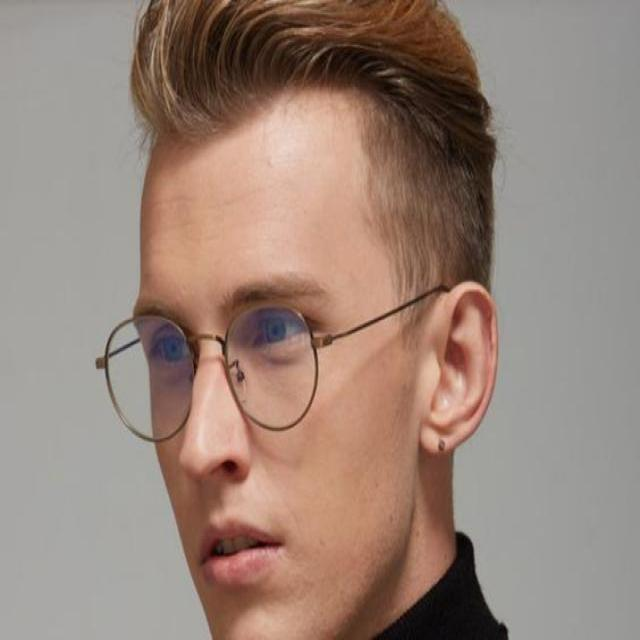glasses: (97, 302, 376, 445)
